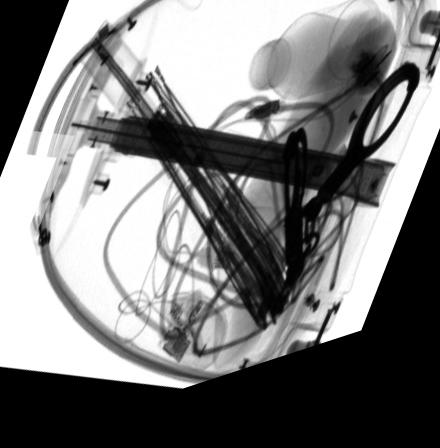HandCuffs: (282, 84, 420, 312)
